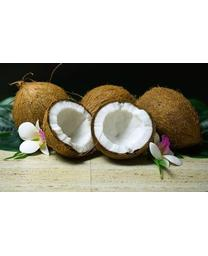coconut: (89, 100, 156, 162), (134, 87, 200, 149), (43, 99, 101, 160), (11, 81, 72, 138), (79, 84, 137, 131)
